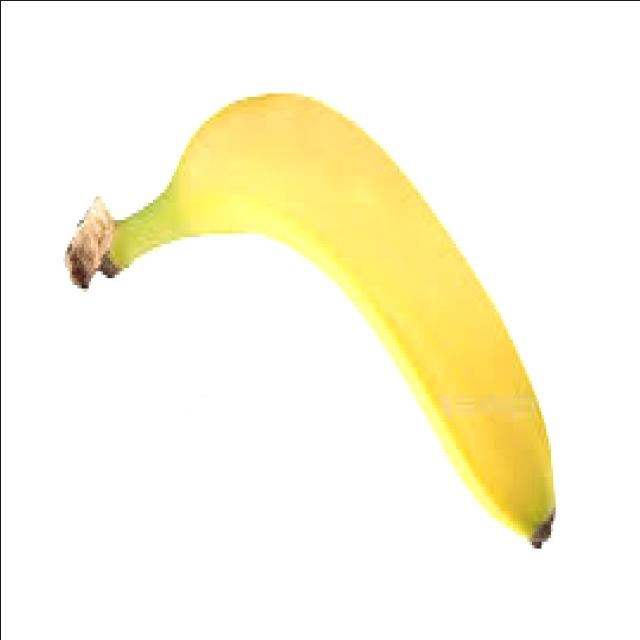agrume: (71, 84, 557, 552)
